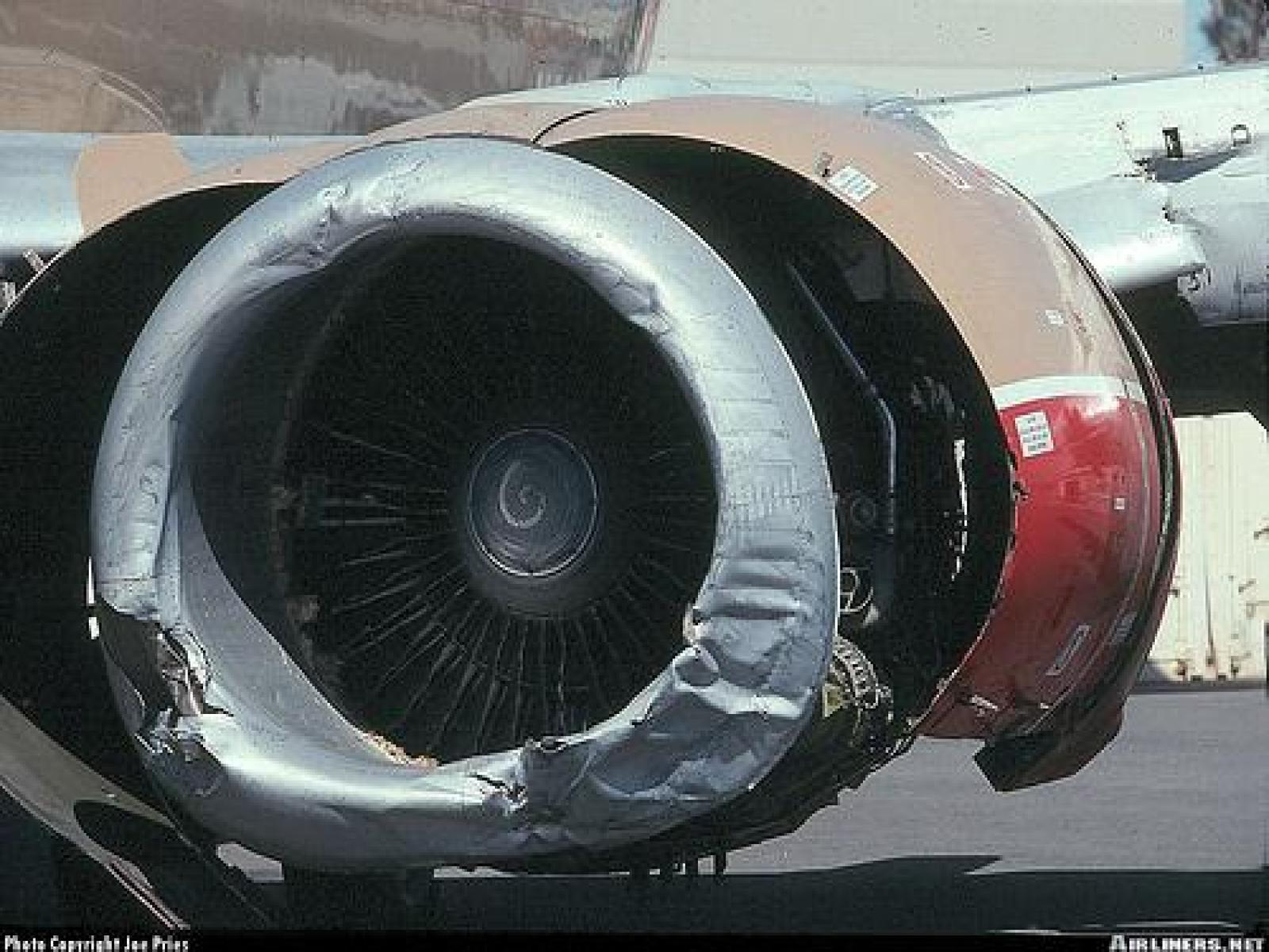Engine_damage: (505, 536, 832, 851), (96, 570, 231, 800), (251, 176, 350, 274)
